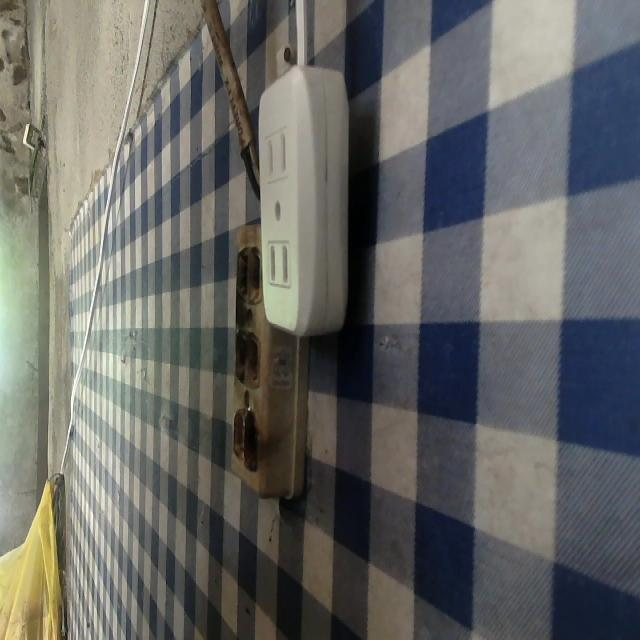-: (223, 406, 271, 474), (228, 325, 268, 399), (233, 240, 265, 308)
